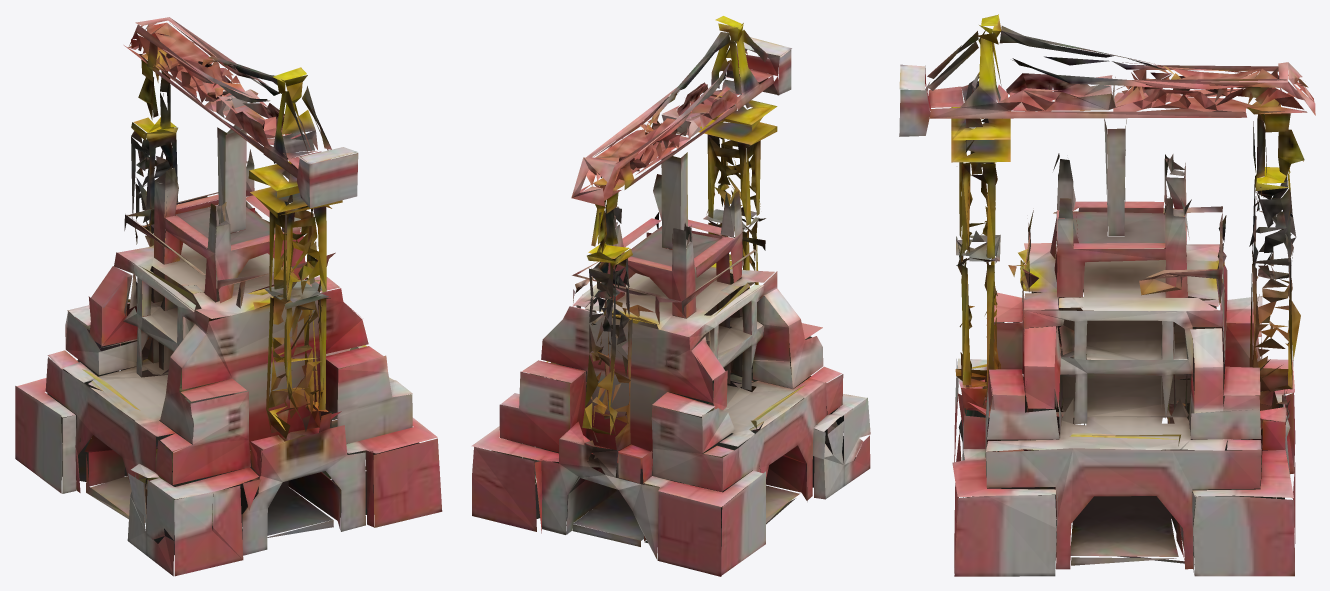
The model's file is creation.glb.
The picture shows the model from 3 angles, left to right: view 1: azimuth 30°, elevation 25°; view 2: azimuth 150°, elevation 25°; view 3: azimuth 270°, elevation 25°; orthographic projection. The views are drawn at different scales.
Parts seen in each view (by area): view 1: geometry_0; view 2: geometry_0; view 3: geometry_0.
Boxes of the visible parts, box(x1,y1,x2,y2) form: geometry_0: box(15, 17, 442, 576); geometry_0: box(471, 16, 870, 576); geometry_0: box(899, 14, 1315, 576).
Size of the model in its own units: 0.6054 by 0.9968 by 0.7591.
Materials: 1 (1 with a texture image).
